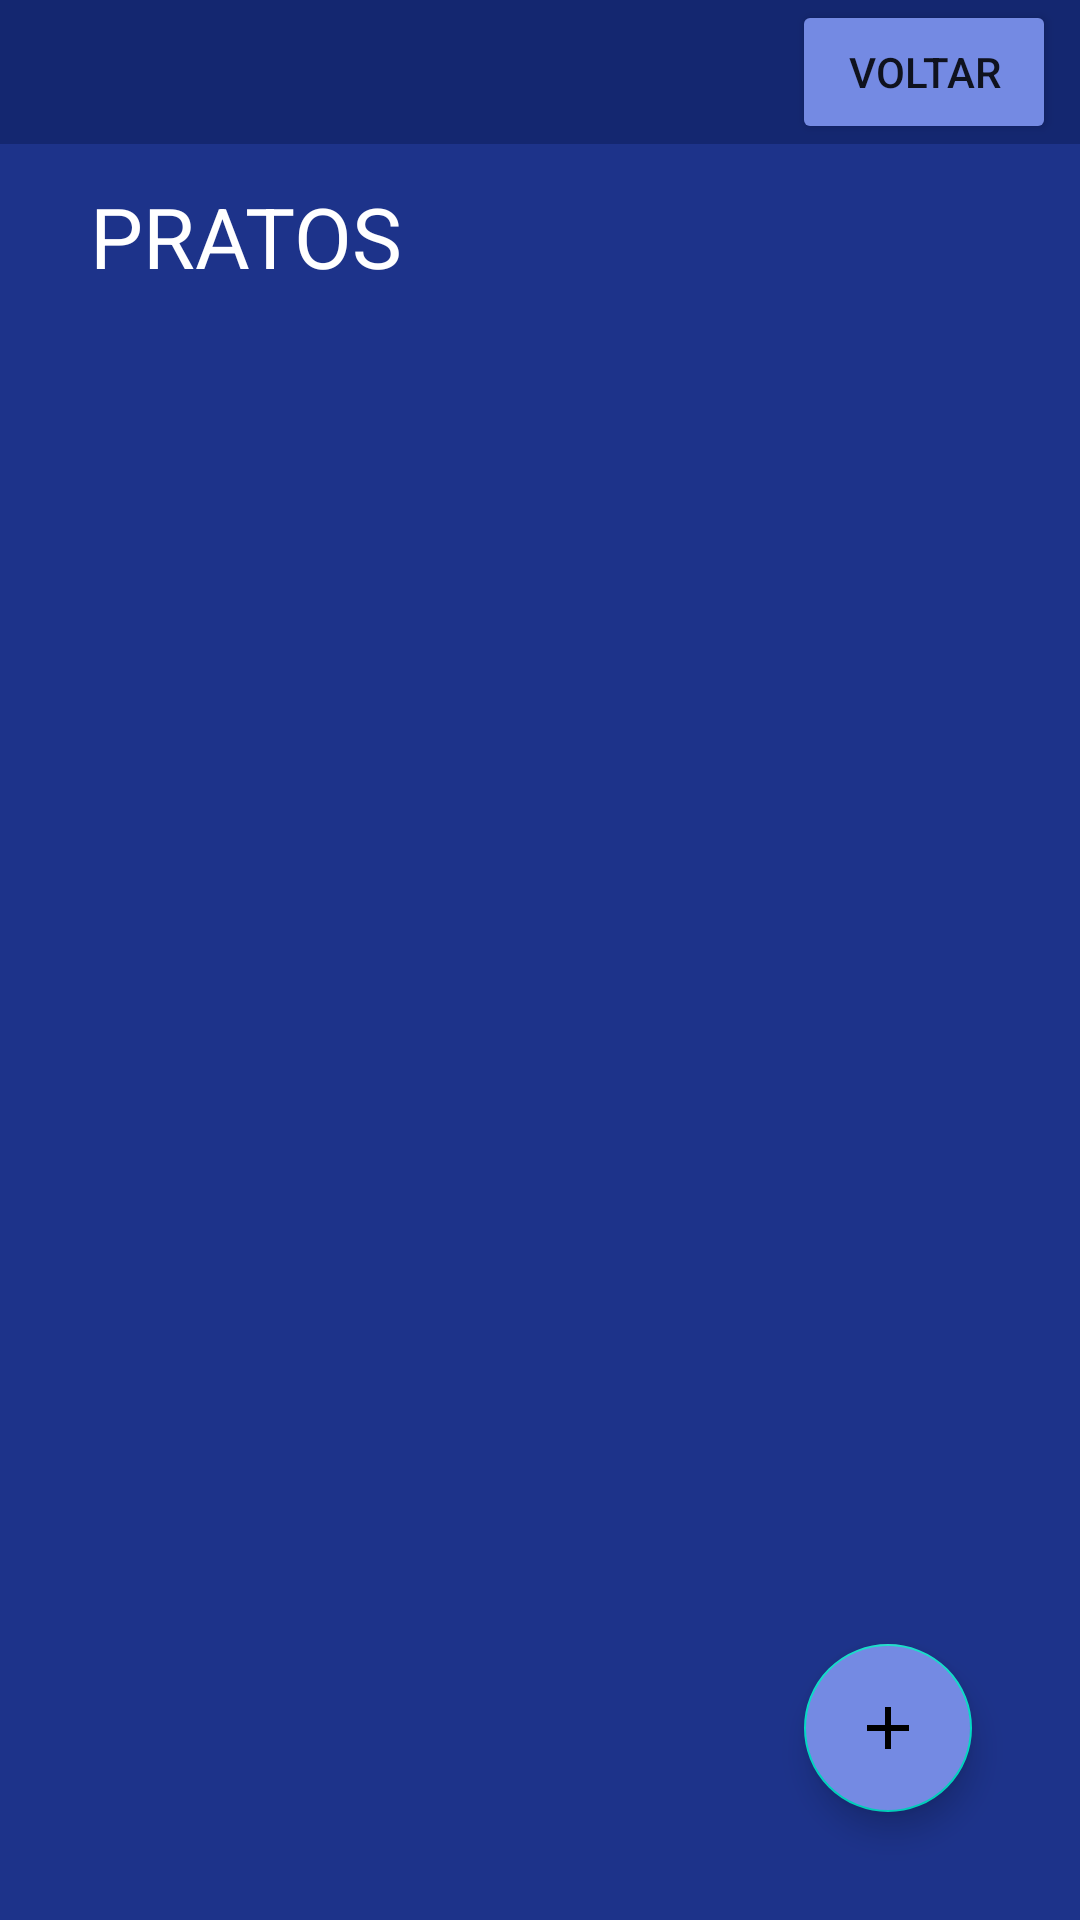

Icon bounding boxes for this 1080×1920 phone screenshot, format [left=x1, top=y1, right=x2, bottom=y2]:
add: [left=804, top=1644, right=972, bottom=1812]
